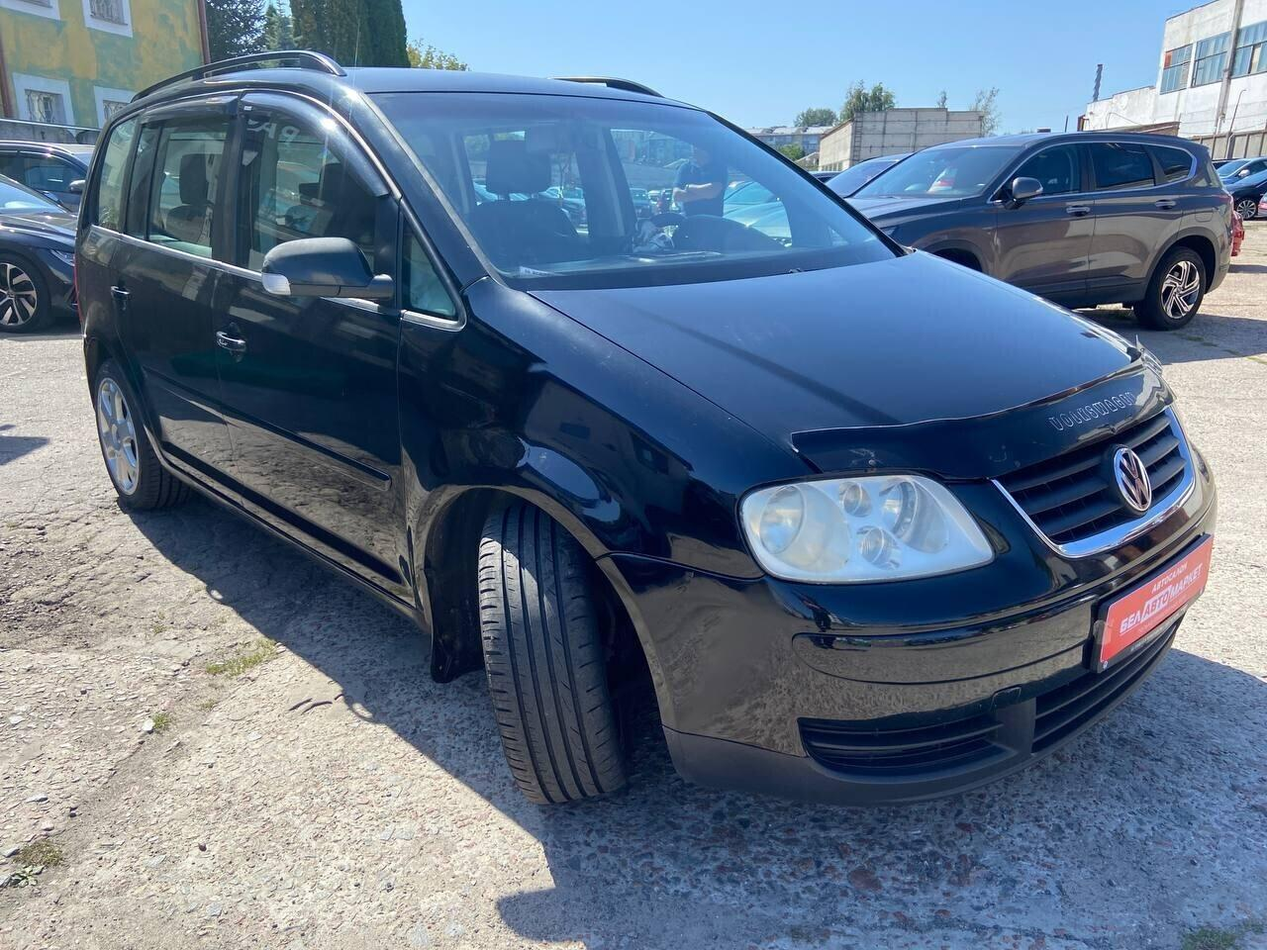Touran_2003-2006: (69, 62, 1216, 820)
